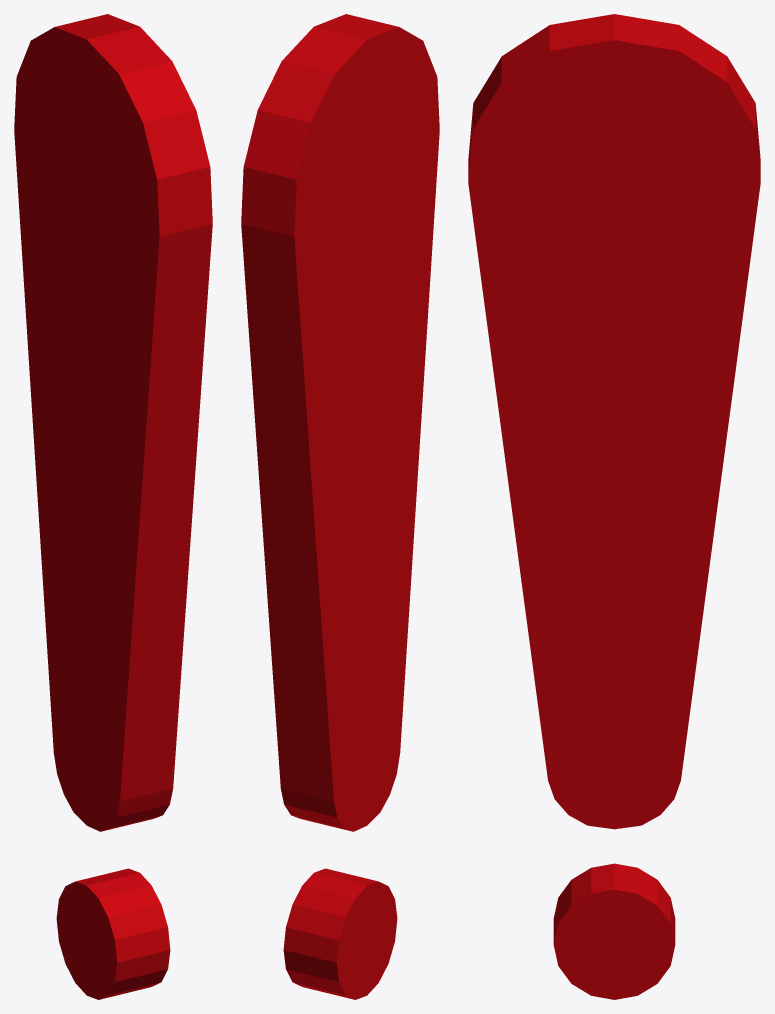
The model's file is TandaSeru.fbx.
3 renders of one model, left to right at view 1: azimuth 30°, elevation 25°; view 2: azimuth 150°, elevation 25°; view 3: azimuth 270°, elevation 25°, orthographic.
Parts seen in each view (by area): view 1: Cube; view 2: Cube; view 3: Cube.
Part boxes in pixels (x1,y1,x2,y2): Cube: [14, 14, 212, 999]; Cube: [241, 14, 439, 999]; Cube: [468, 14, 760, 999].
Size of the model in its own units: 1.44 by 24.75 by 6.83.
